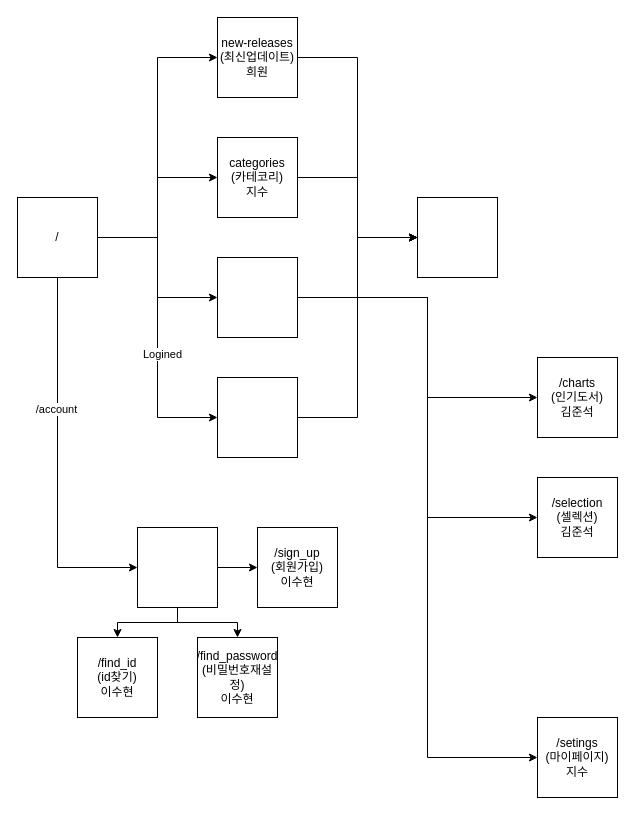
The diagram is 635 pixels wide and 815 high, and some of its shapes have lost their labels. Each missing label, with the box of its shape:
/book/ (책상세페이지) 지수: (416, 196, 498, 278)
/login (로그인) 이수현: (136, 526, 218, 608)
home (홈) 희원: (216, 256, 298, 338)
my-select (찜하기) 김준석: (216, 376, 298, 458)
